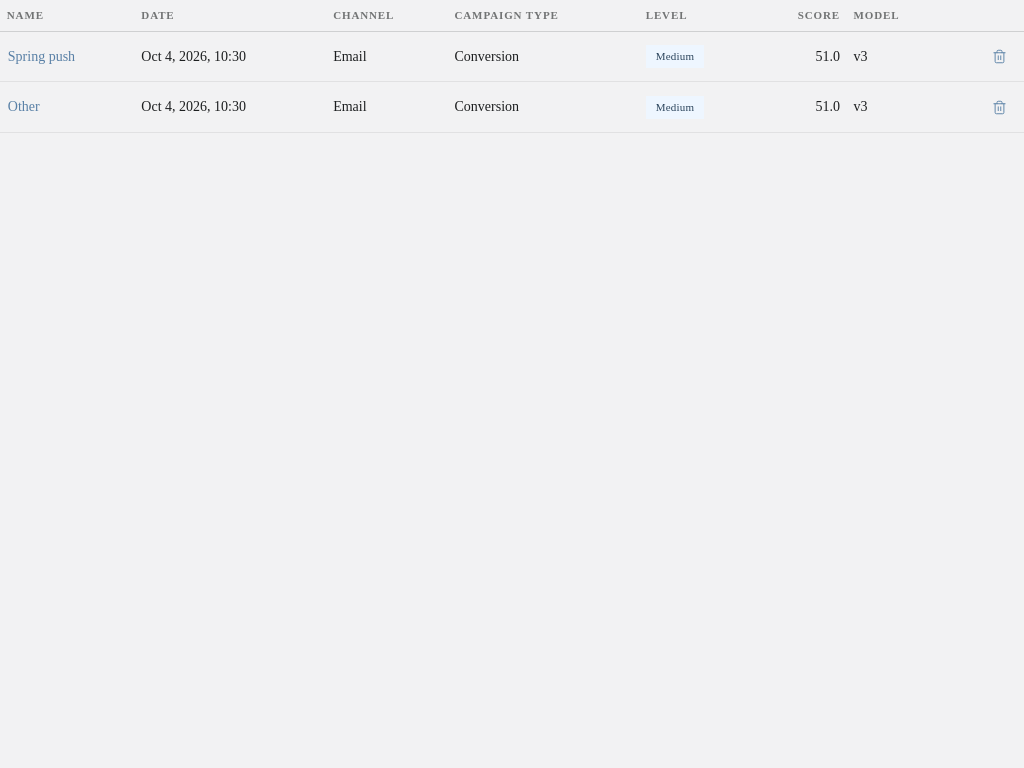
HistoryTable (prototype table) › asks for a confirmation in the row, then deletes and confirms with a toast
Step 1. Click the button named "Delete prediction" in the row of "Spring push" → point(999, 56), box [981,38,1017,74]
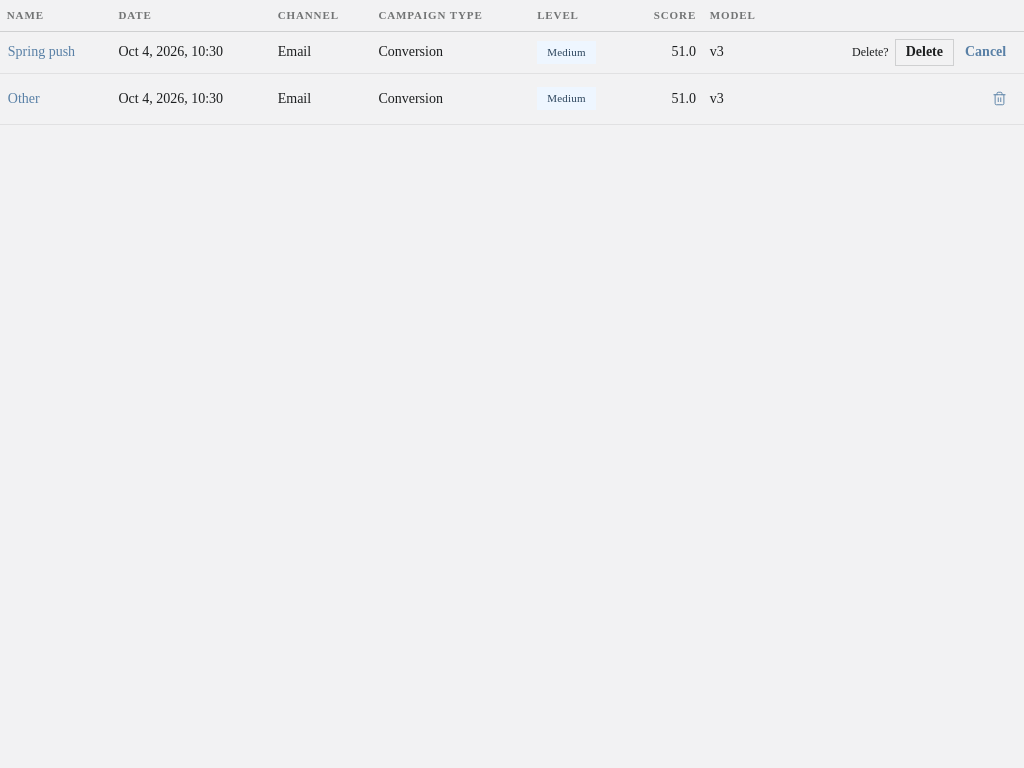
Expected: the text "Delete?" is shown, [852,45,889,59]
# Cancel puts the trash icon back.
Step 2. Click the button "Cancel" → point(986, 52), box [954,39,1017,66]
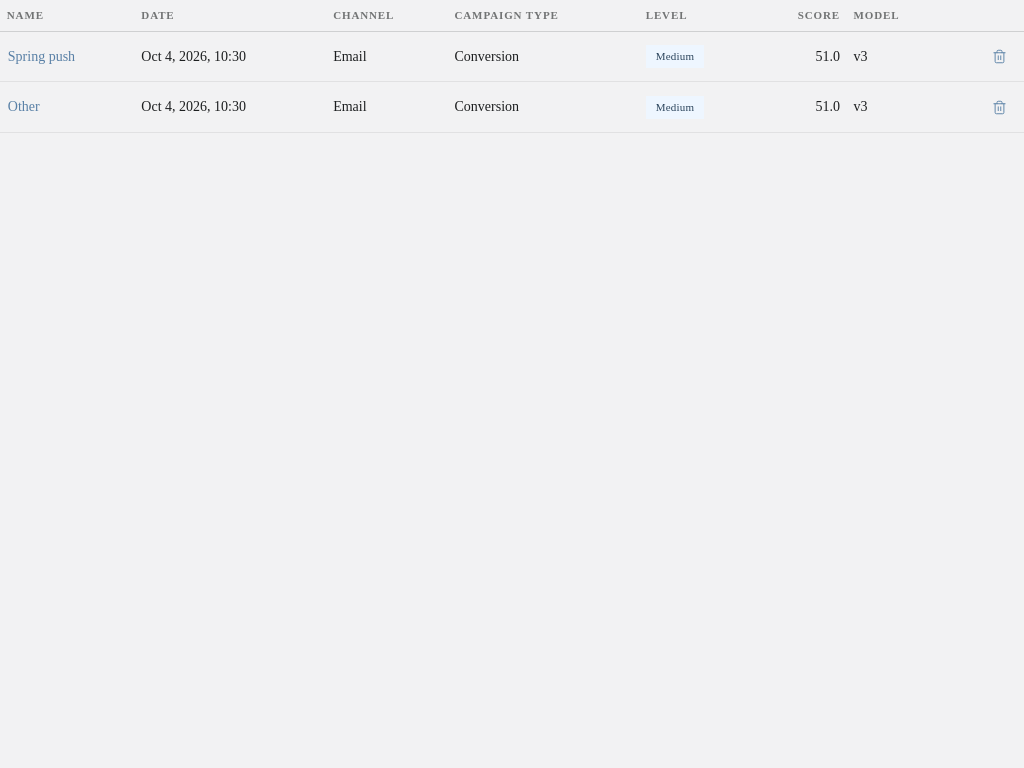
Expected: the text "Delete?" is gone
Step 3. Click the button named "Delete prediction" in the row of "Spring push" → point(999, 56), box [981,38,1017,74]
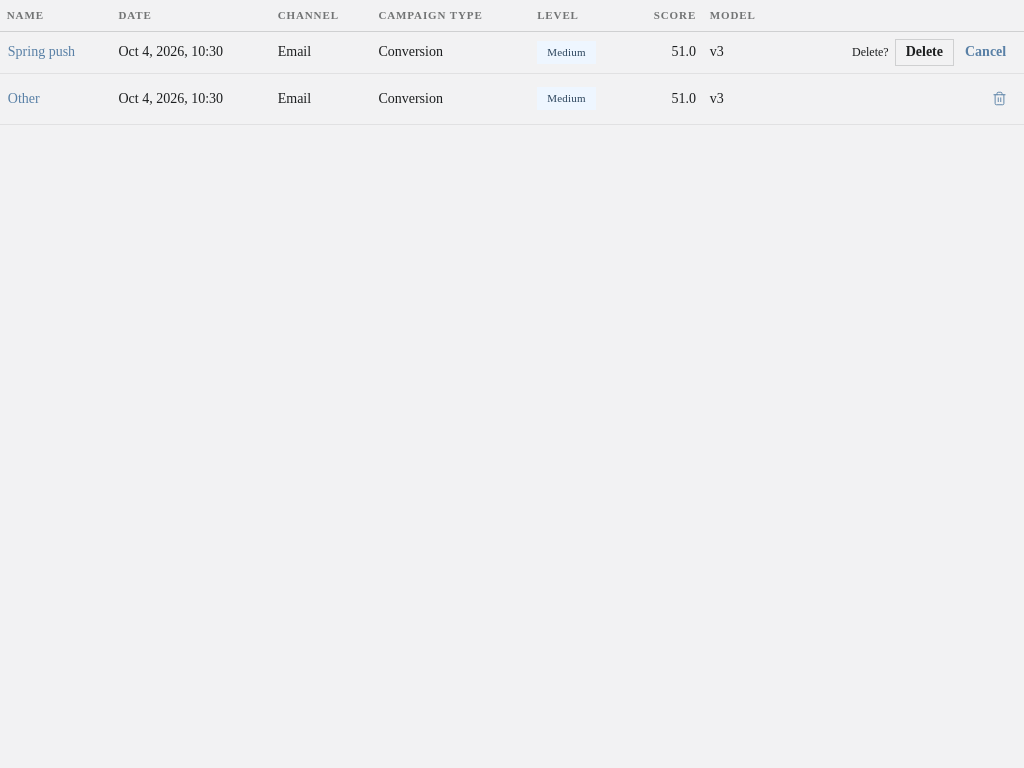
Step 4. Click the button "Delete" → point(924, 52), box [895,39,954,66]
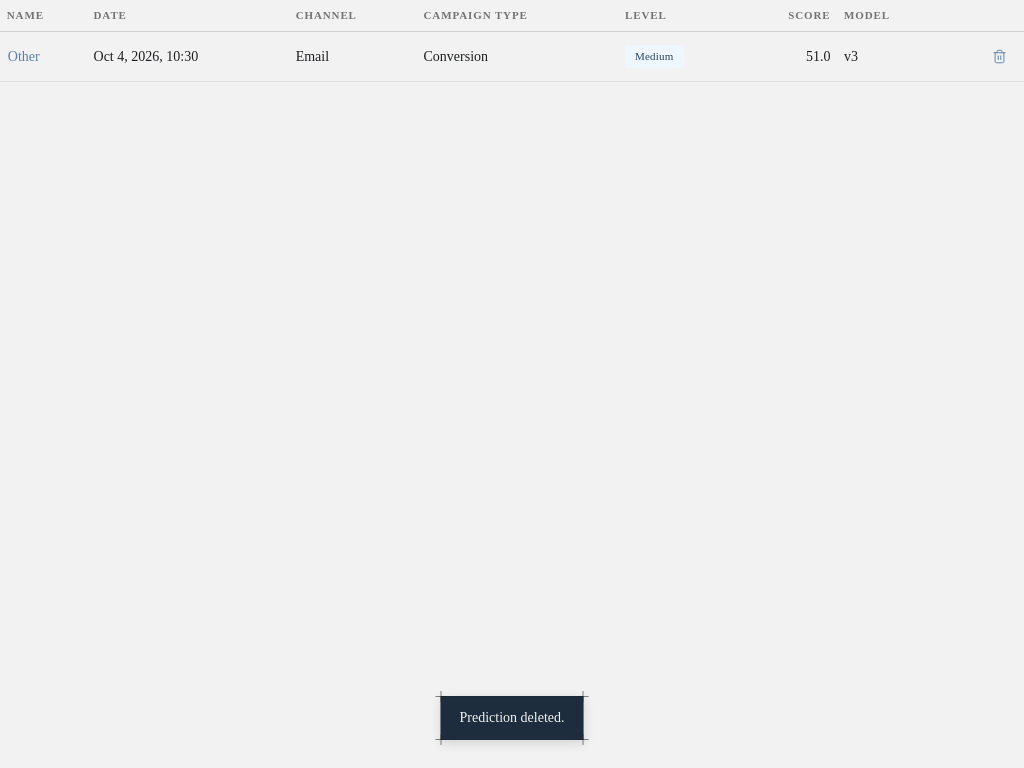
Expected: the message with test id "toast" reads "Prediction deleted.", [460,710,564,725]
Expected: the number of rows with test id "history-row" is 1, [0,31,1023,82]
